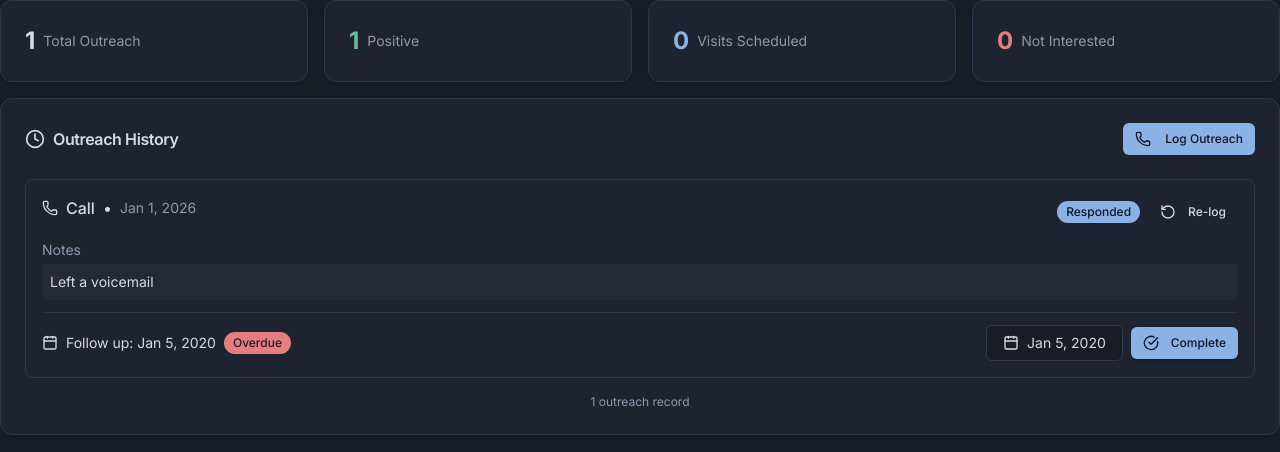
Test: OutreachHistoryTab optimistic follow-up completion › flips the badge to Completed instantly on click, before the action settles
The width and height of the screenshot is (1280, 452).
Expected: the text "Overdue" is shown, x1=224 y1=332 x2=291 y2=354
Expected: the text "Completed" is not shown
Click the button "Complete" at (1184, 343), box x1=1131 y1=327 x2=1238 y2=359
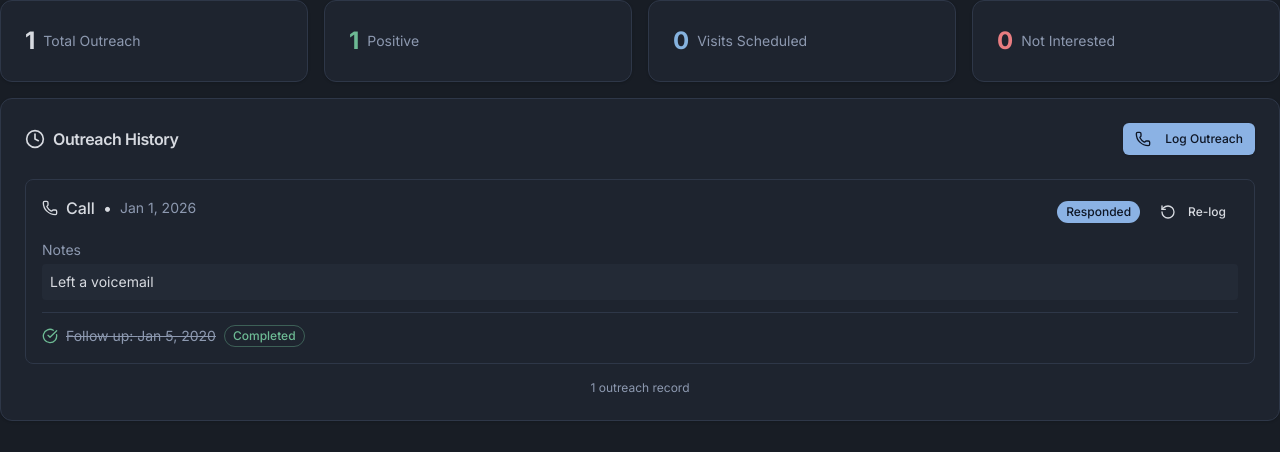
Expected: the text "Overdue" is gone
Expected: the text "Completed" is shown, x1=224 y1=325 x2=305 y2=347
